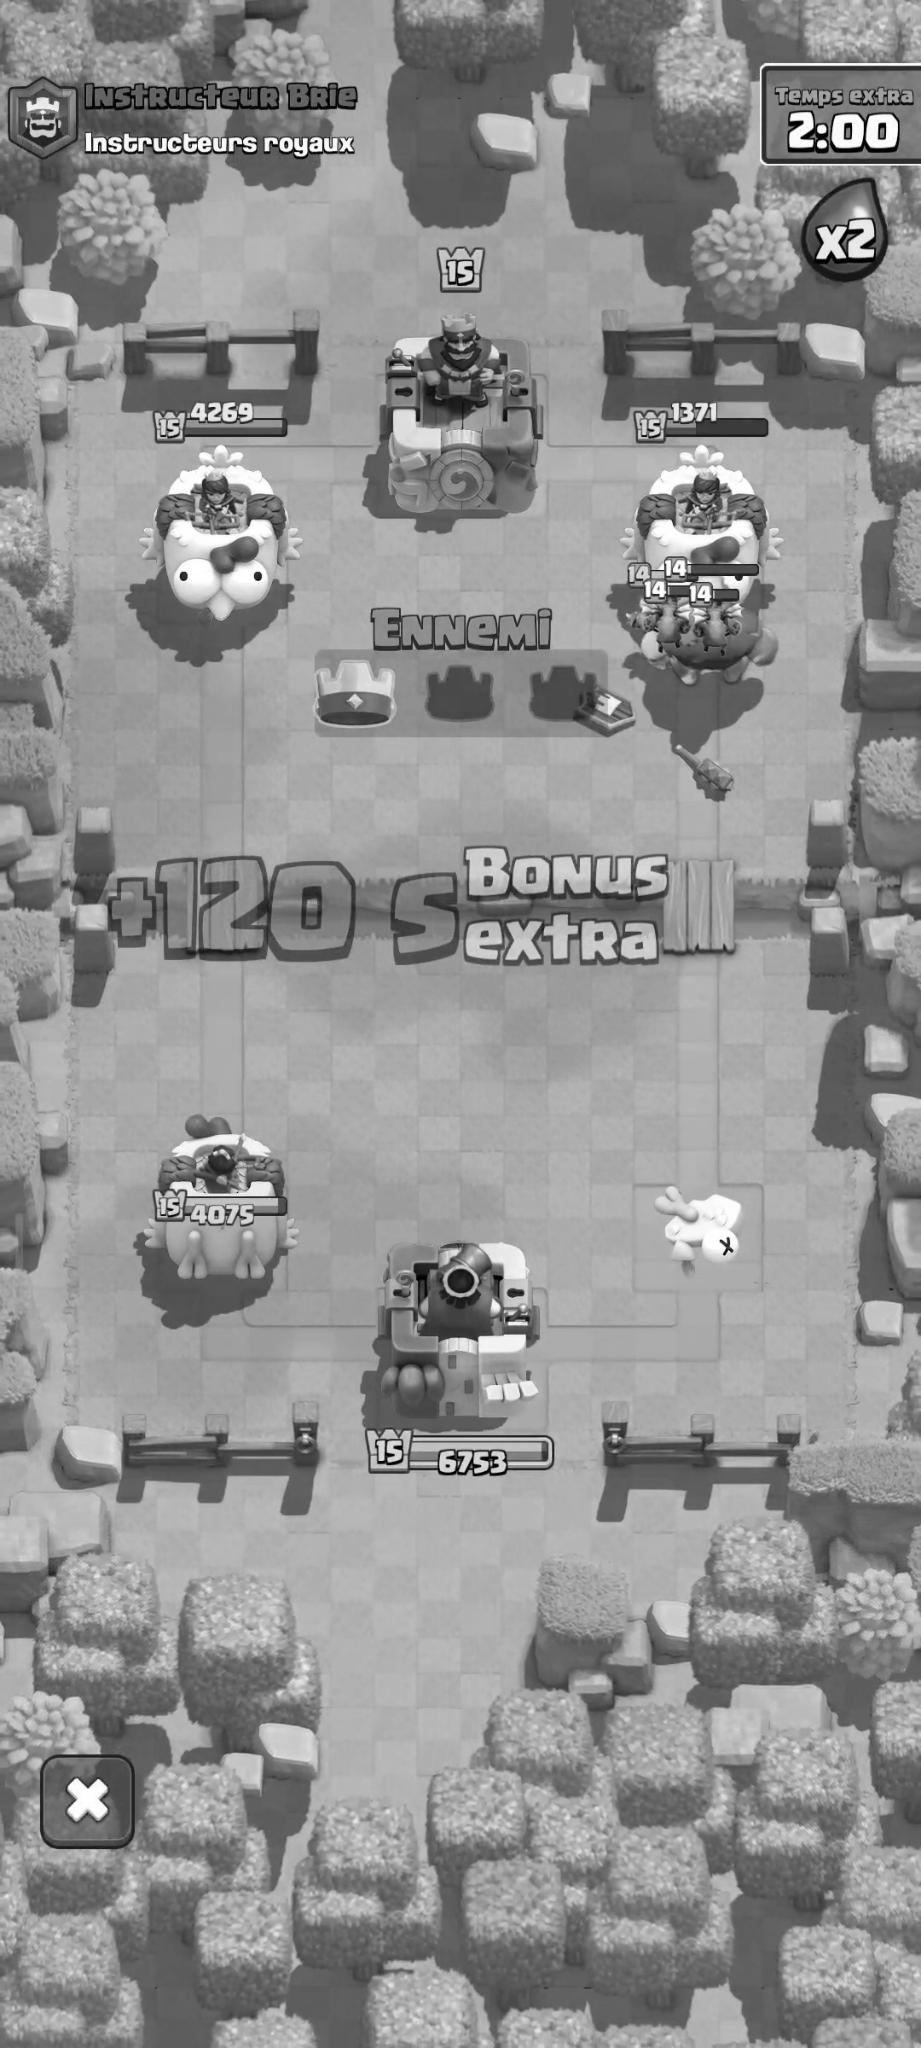gargouille: (632, 558, 683, 624), (635, 602, 694, 653), (694, 598, 742, 660)
geant: (644, 580, 788, 688)
